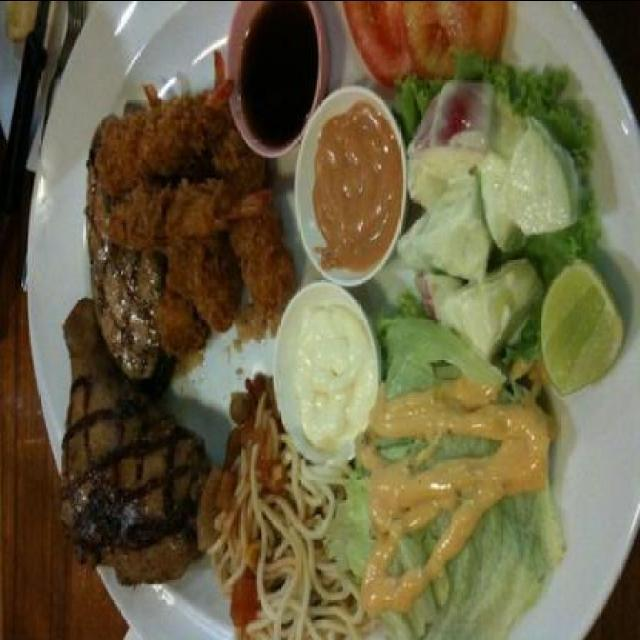Steak: (78, 89, 260, 368), (52, 343, 204, 583)
